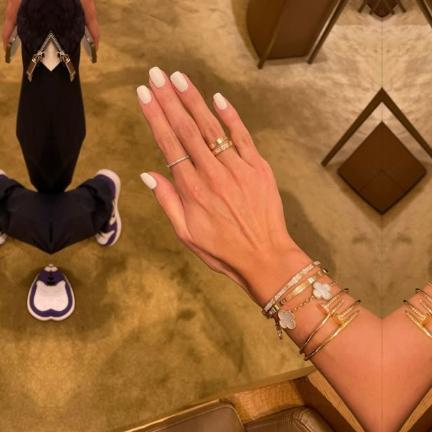Nail: (169, 71, 187, 92), (148, 67, 165, 88), (139, 173, 156, 190), (136, 85, 151, 104), (213, 93, 226, 110)
